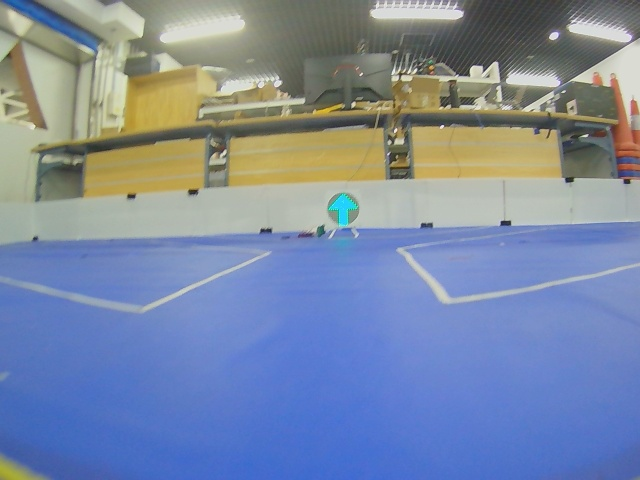straight_green: (327, 193, 359, 227)
